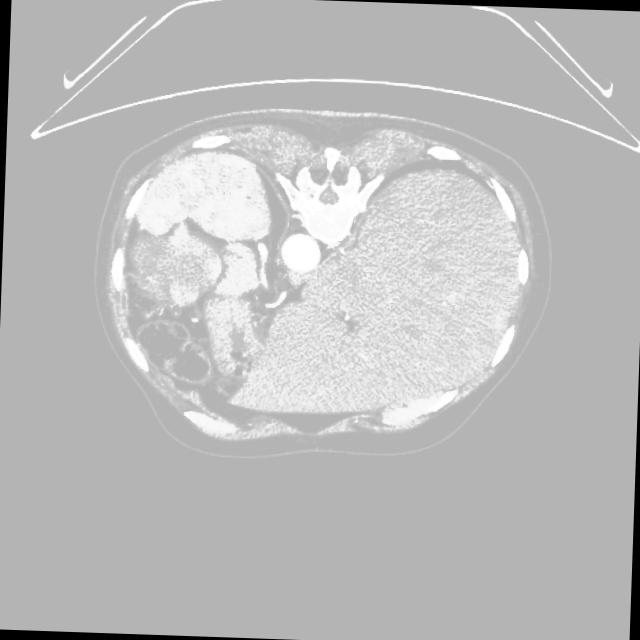TUMOR: (122, 176, 272, 417)
